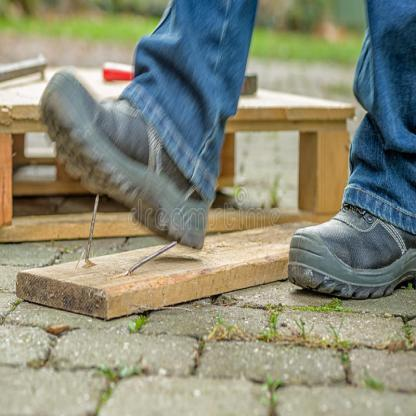bota: (38, 66, 211, 252), (285, 200, 416, 302)
